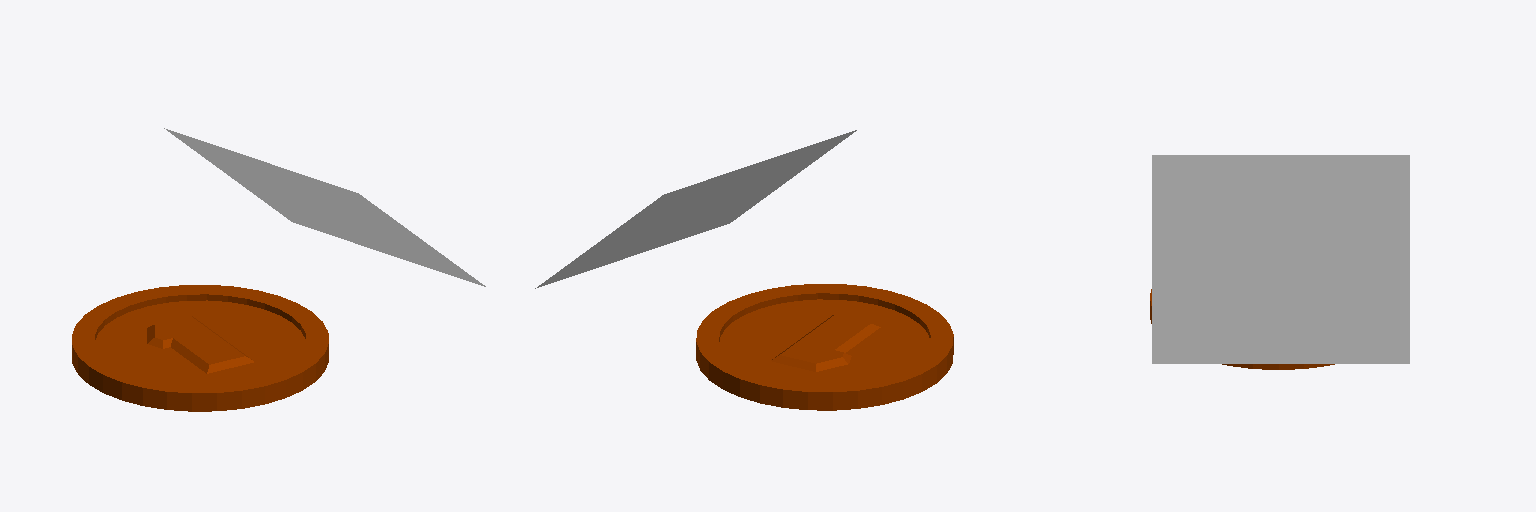
The model's file is goldCoin.obj.
The picture shows the model from 3 angles: view 1: azimuth 30°, elevation 25°; view 2: azimuth 150°, elevation 25°; view 3: azimuth 270°, elevation 25°; orthographic projection.
Visible parts, largest first — view 1: coin.001_Circle.001, Plane.001_Plane.003; view 2: coin.001_Circle.001, Plane.001_Plane.003; view 3: Plane.001_Plane.003, coin.001_Circle.001.
Part boxes in pixels (x1,y1,x2,y2): coin.001_Circle.001: (72, 285, 328, 411); Plane.001_Plane.003: (164, 128, 485, 286); coin.001_Circle.001: (696, 284, 953, 410); Plane.001_Plane.003: (535, 130, 856, 288); Plane.001_Plane.003: (1152, 155, 1409, 363); coin.001_Circle.001: (1150, 289, 1334, 369).
Bounding box in the file's own units: 3.01 × 1.49 × 2.02.